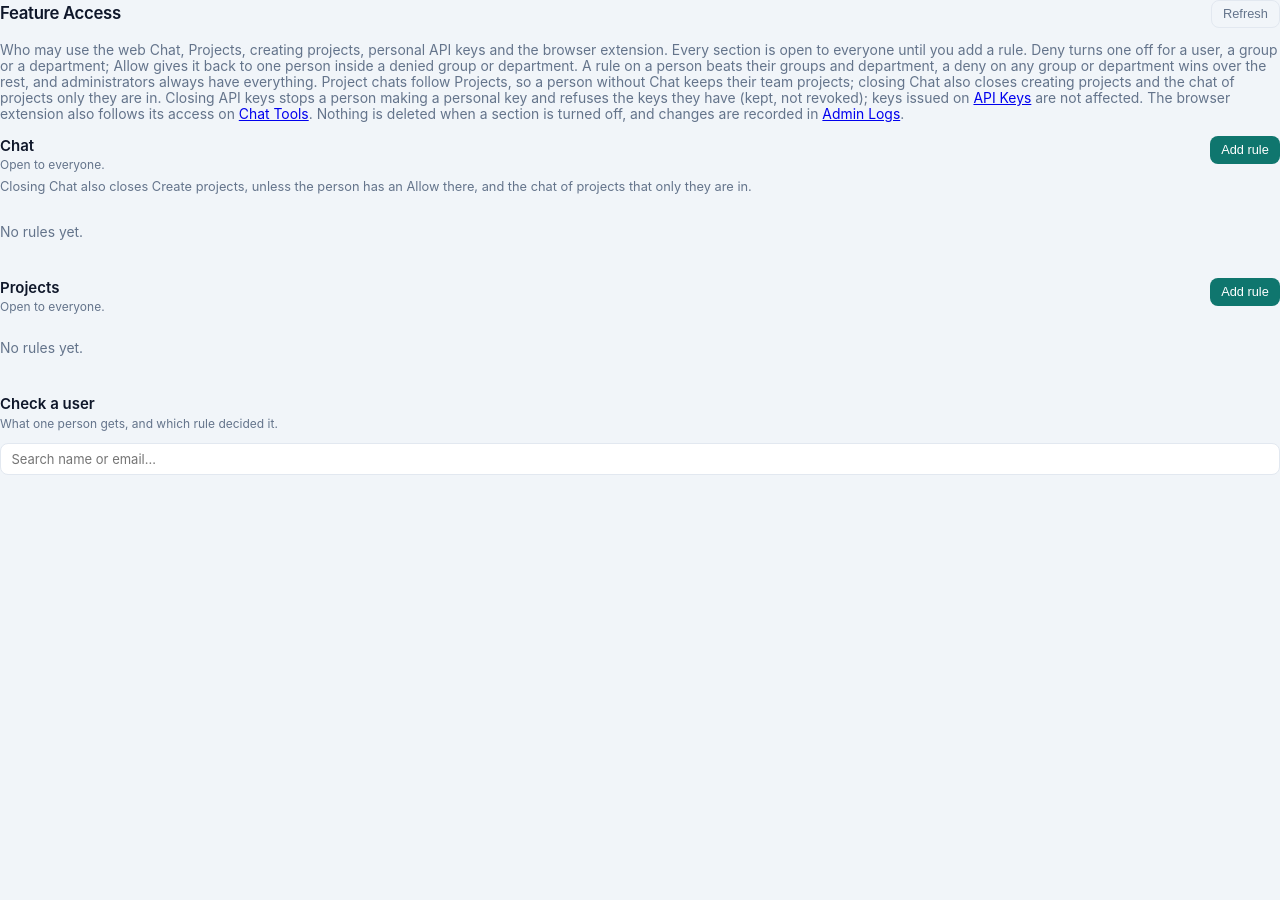
Test case: adding for a user or a group, and checking a person › offers Allow for a user and not for a group
This screenshot has width=1280, height=900.
Click the 1st button "Add rule".
click(1245, 150)  # box [1210,136,1279,164]
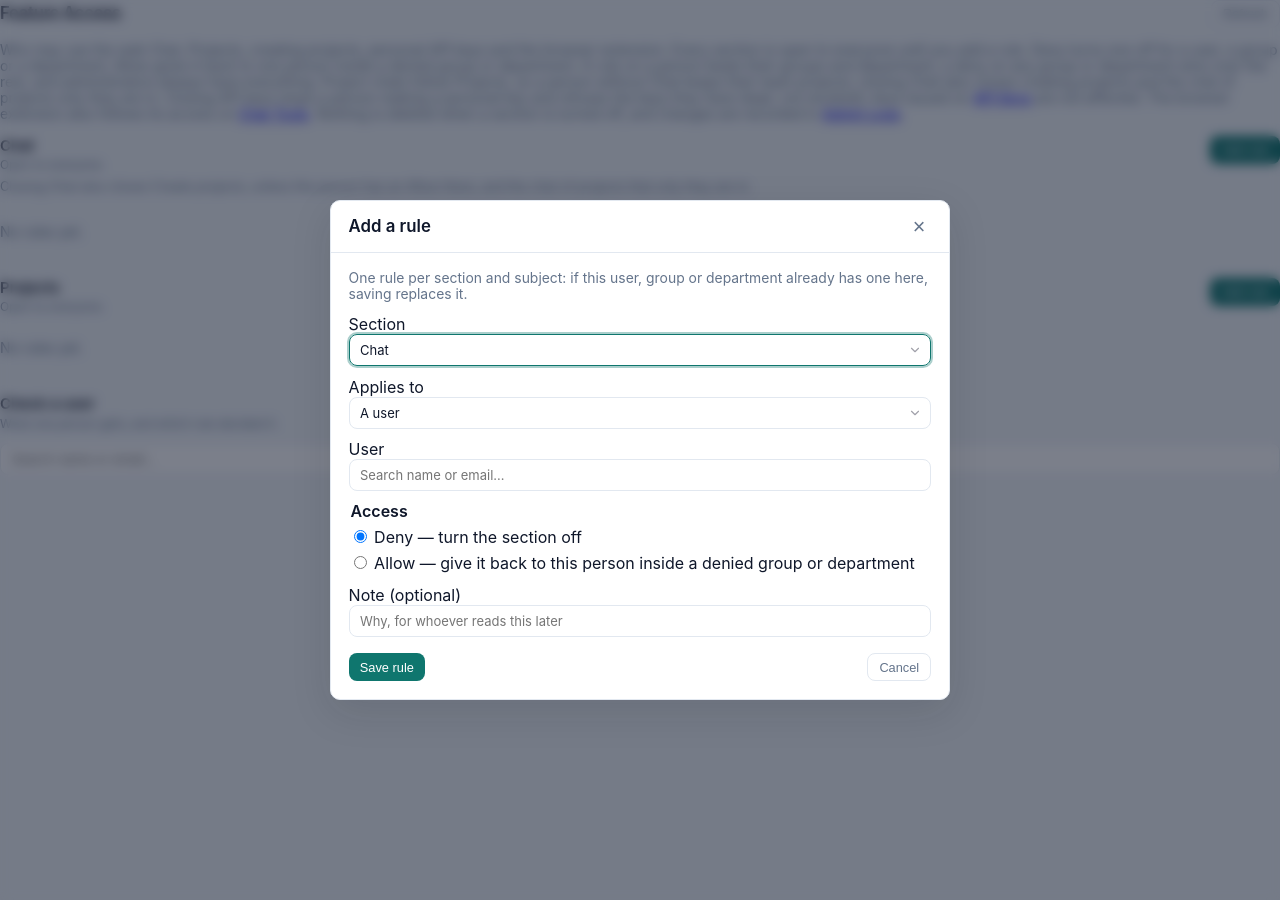
Expected: the 2nd radio button is enabled, [354,556,367,570]
Select "A group" in the dropdown with id "feature-access-target-type" at (640, 413), box [349,397,931,429]
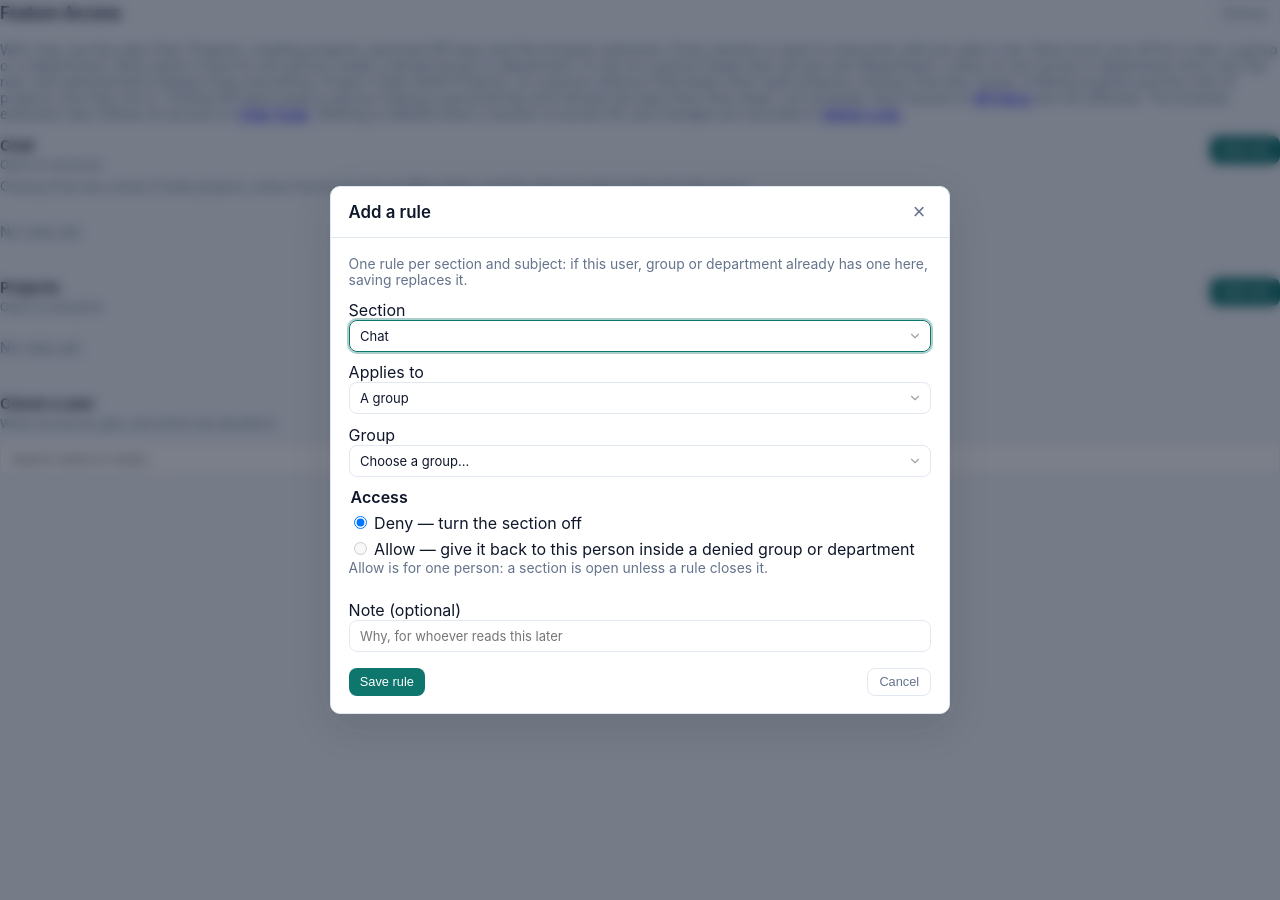
Expected: the text "saving replaces it" is shown, [349,256,928,288]
Expected: the 2nd radio button is disabled, [354,542,367,555]
